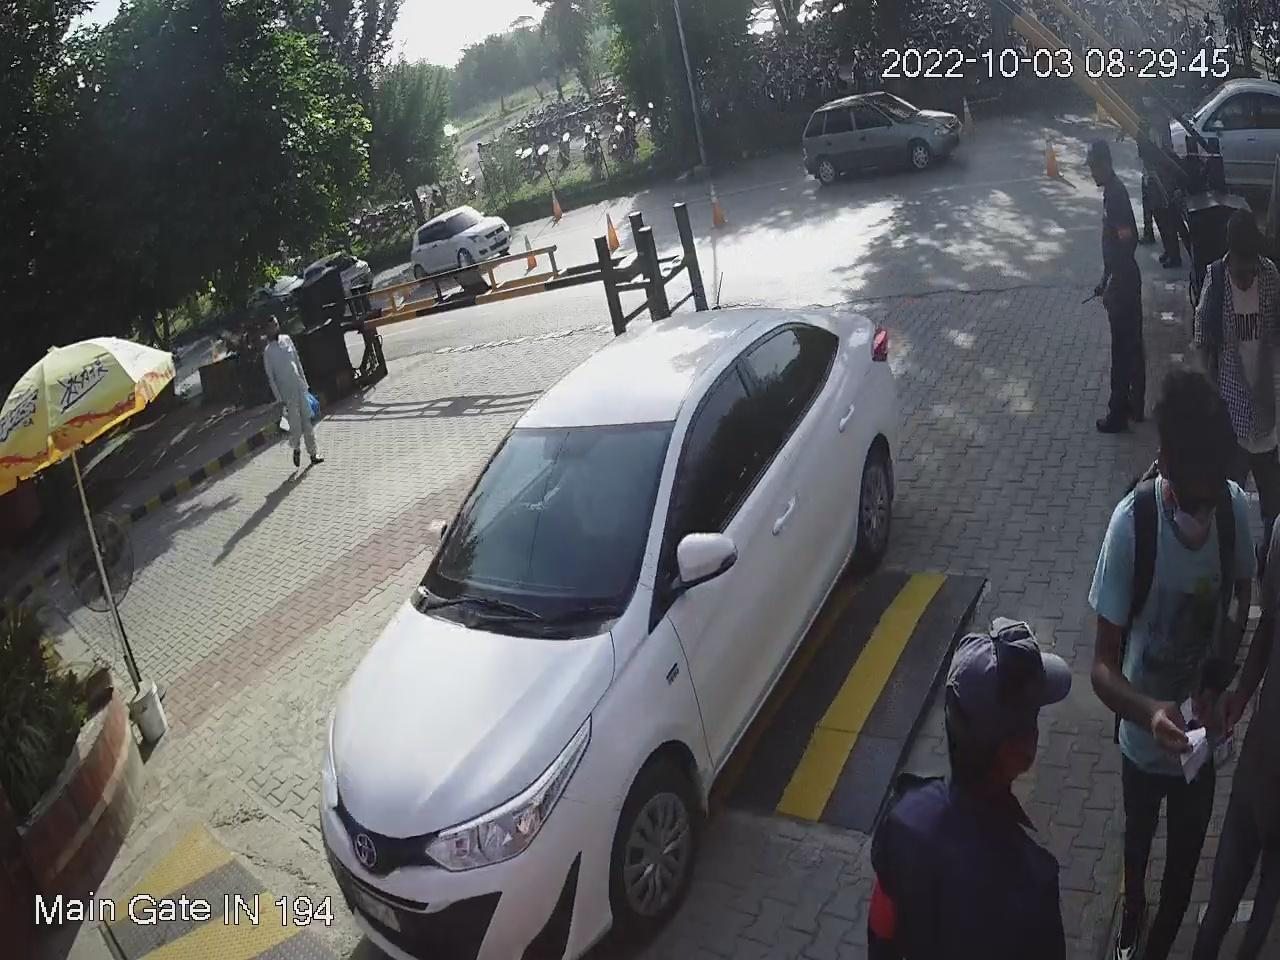windshield: (415, 417, 670, 635)
